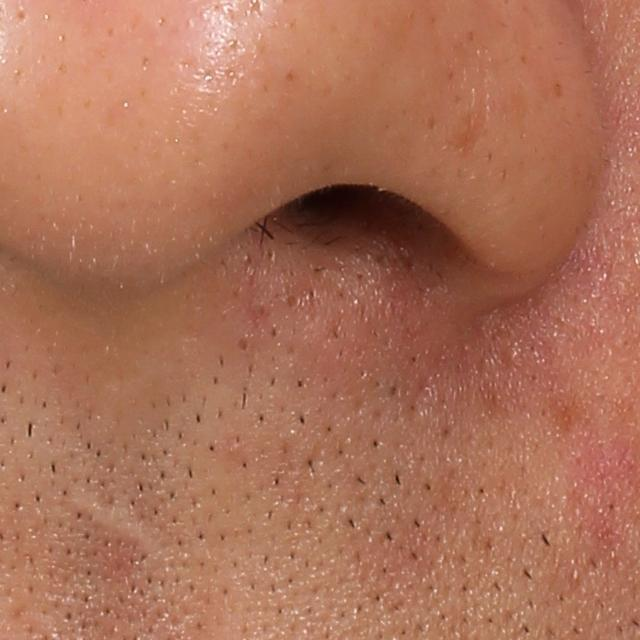comedo: (234, 333, 253, 353)
